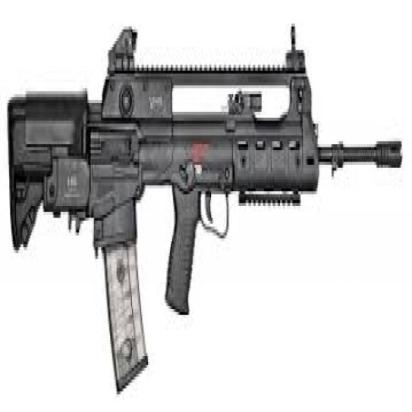Gun: (9, 20, 408, 396)
